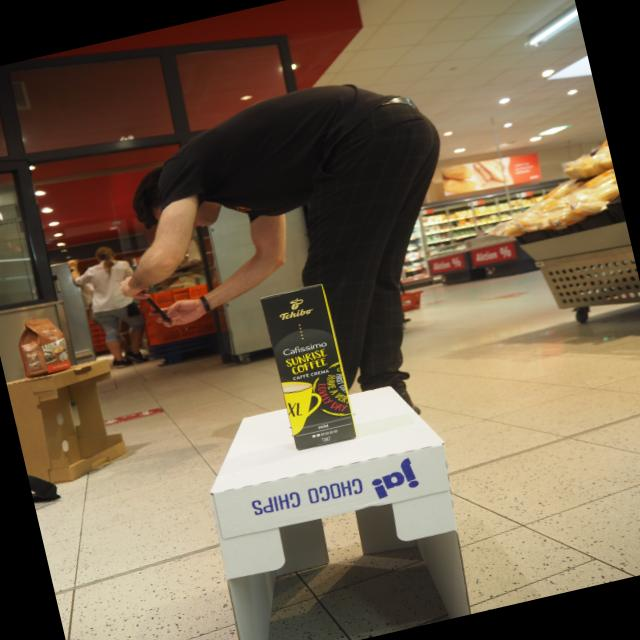Simo Sunrise: (260, 284, 358, 453)
